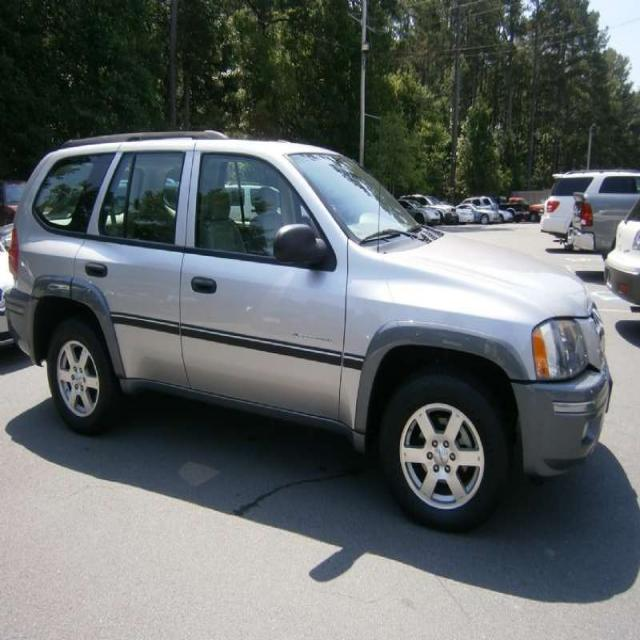car: (5, 129, 613, 531)
